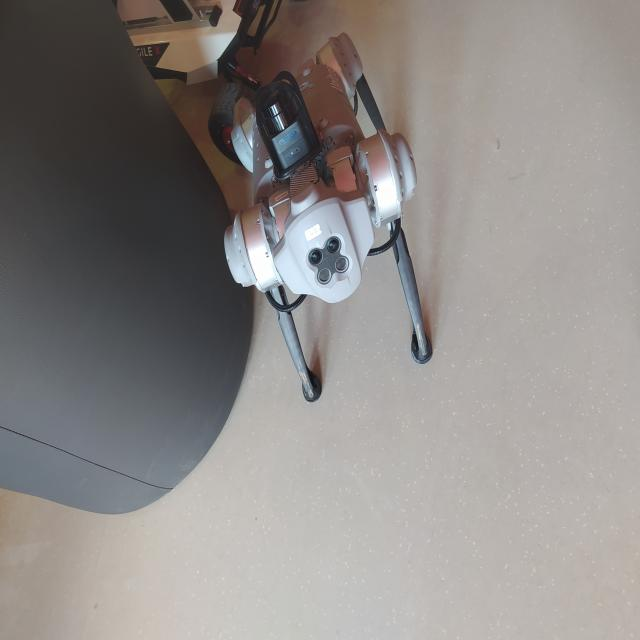unitree-go1-robot: (225, 31, 438, 394)
